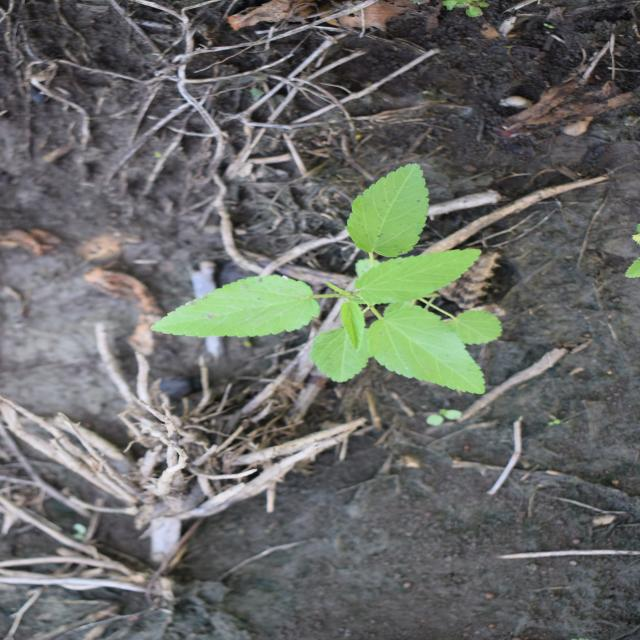PricklySida: (148, 161, 506, 397)
